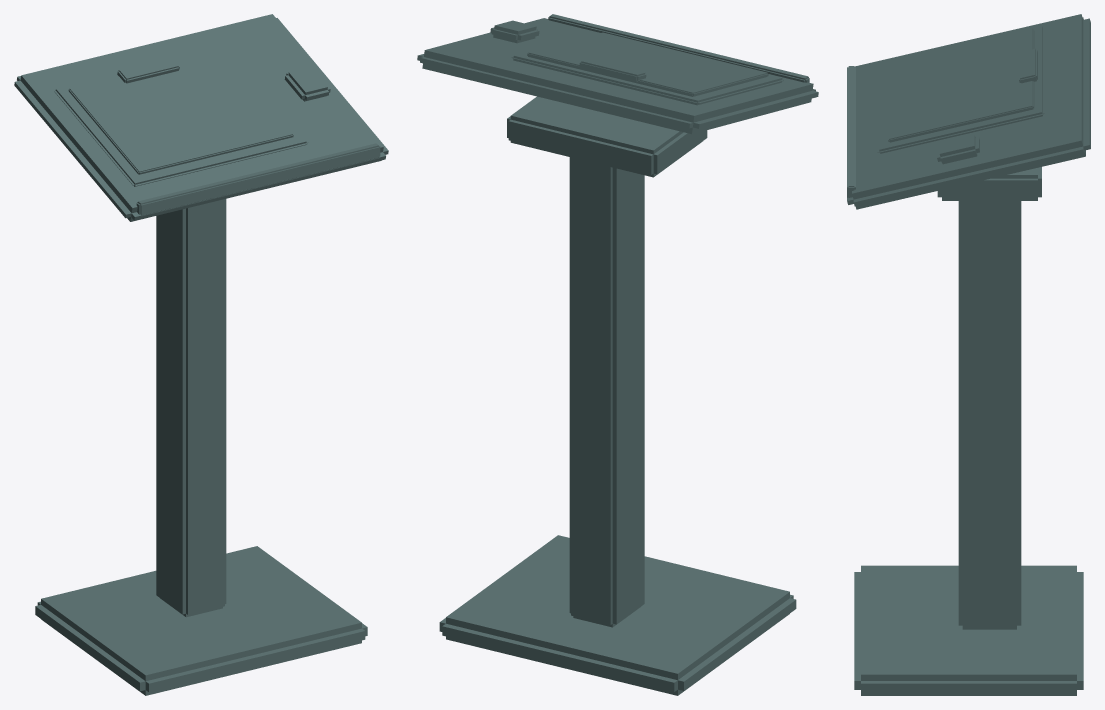
Rendered from OBJ-058_AtrilAdmision.fbx.
The picture shows the model from 3 angles, left to right: view 1: azimuth 30°, elevation 25°; view 2: azimuth 150°, elevation 25°; view 3: azimuth 270°, elevation 25°; orthographic projection. The views are drawn at different scales.
Parts seen in each view (by area): view 1: GEO-OBJ-058_AtrilAdmision.001; view 2: GEO-OBJ-058_AtrilAdmision.001; view 3: GEO-OBJ-058_AtrilAdmision.001.
Boxes of the visible parts, box(x1,y1,x2,y2) form: GEO-OBJ-058_AtrilAdmision.001: box(14, 14, 388, 695); GEO-OBJ-058_AtrilAdmision.001: box(417, 14, 818, 695); GEO-OBJ-058_AtrilAdmision.001: box(847, 14, 1090, 695).
Bounding box in the file's own units: 0.6 × 1.2 × 0.4673.
